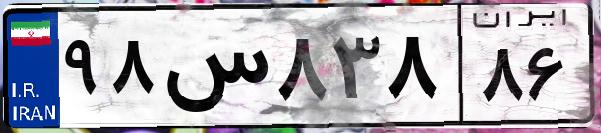3: (330, 28, 385, 110)
6: (525, 38, 570, 115)
8: (270, 28, 330, 110), (385, 28, 445, 110), (475, 38, 525, 113), (110, 28, 158, 98)
9: (57, 26, 110, 100)
س: (158, 20, 270, 120)
